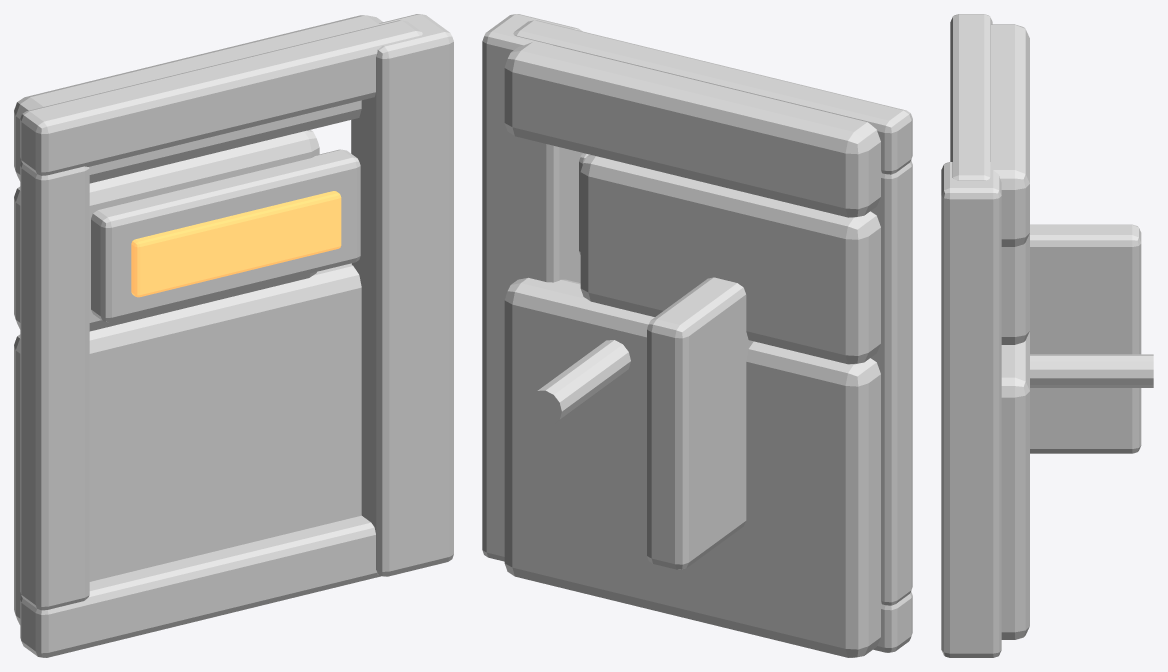
File: BreachShield.fbx
The picture shows the model from 3 angles, left to right: view 1: azimuth 30°, elevation 25°; view 2: azimuth 150°, elevation 25°; view 3: azimuth 270°, elevation 25°; orthographic projection. The views are drawn at different scales.
Parts seen in each view (by area): view 1: ShieldPlateLower, RightStrikeRail, LeftRail, TopRail, BottomRail, ViewportFrame, Viewport, ShieldPlateUpper, ShieldPlateMidLeft; view 2: ShieldPlateLower, ShieldPlateMidLeft, ShieldPlateUpper, ForearmBrace, RightStrikeRail, LeftRail, TopRail, HandGrip, BottomRail; view 3: RightStrikeRail, ForearmBrace, ShieldPlateLower, ShieldPlateUpper, TopRail, HandGrip, ShieldPlateMidLeft.
Boxes of the visible parts, x1,y1,x2,y2 form: ShieldPlateLower: (14, 263, 361, 624); RightStrikeRail: (351, 14, 453, 576); LeftRail: (20, 161, 89, 610); TopRail: (20, 20, 422, 175); BottomRail: (20, 515, 381, 657); ViewportFrame: (91, 149, 360, 321); Viewport: (131, 191, 341, 297); ShieldPlateUpper: (14, 15, 382, 183); ShieldPlateMidLeft: (14, 130, 319, 331); ShieldPlateLower: (504, 277, 881, 657); ShieldPlateMidLeft: (580, 154, 880, 364); ShieldPlateUpper: (504, 41, 881, 217); ForearmBrace: (647, 277, 753, 569); RightStrikeRail: (482, 14, 583, 561); LeftRail: (870, 160, 912, 605); TopRail: (513, 20, 912, 174); HandGrip: (529, 340, 630, 424); BottomRail: (873, 591, 912, 652); RightStrikeRail: (941, 162, 1001, 657); ForearmBrace: (1030, 224, 1141, 453); ShieldPlateLower: (1001, 331, 1029, 639); ShieldPlateUpper: (990, 24, 1029, 246); TopRail: (950, 14, 992, 180); HandGrip: (1030, 354, 1153, 387); ShieldPlateMidLeft: (1001, 233, 1029, 344).
Bounding box in the file's own units: 70 × 87 × 35.2.
